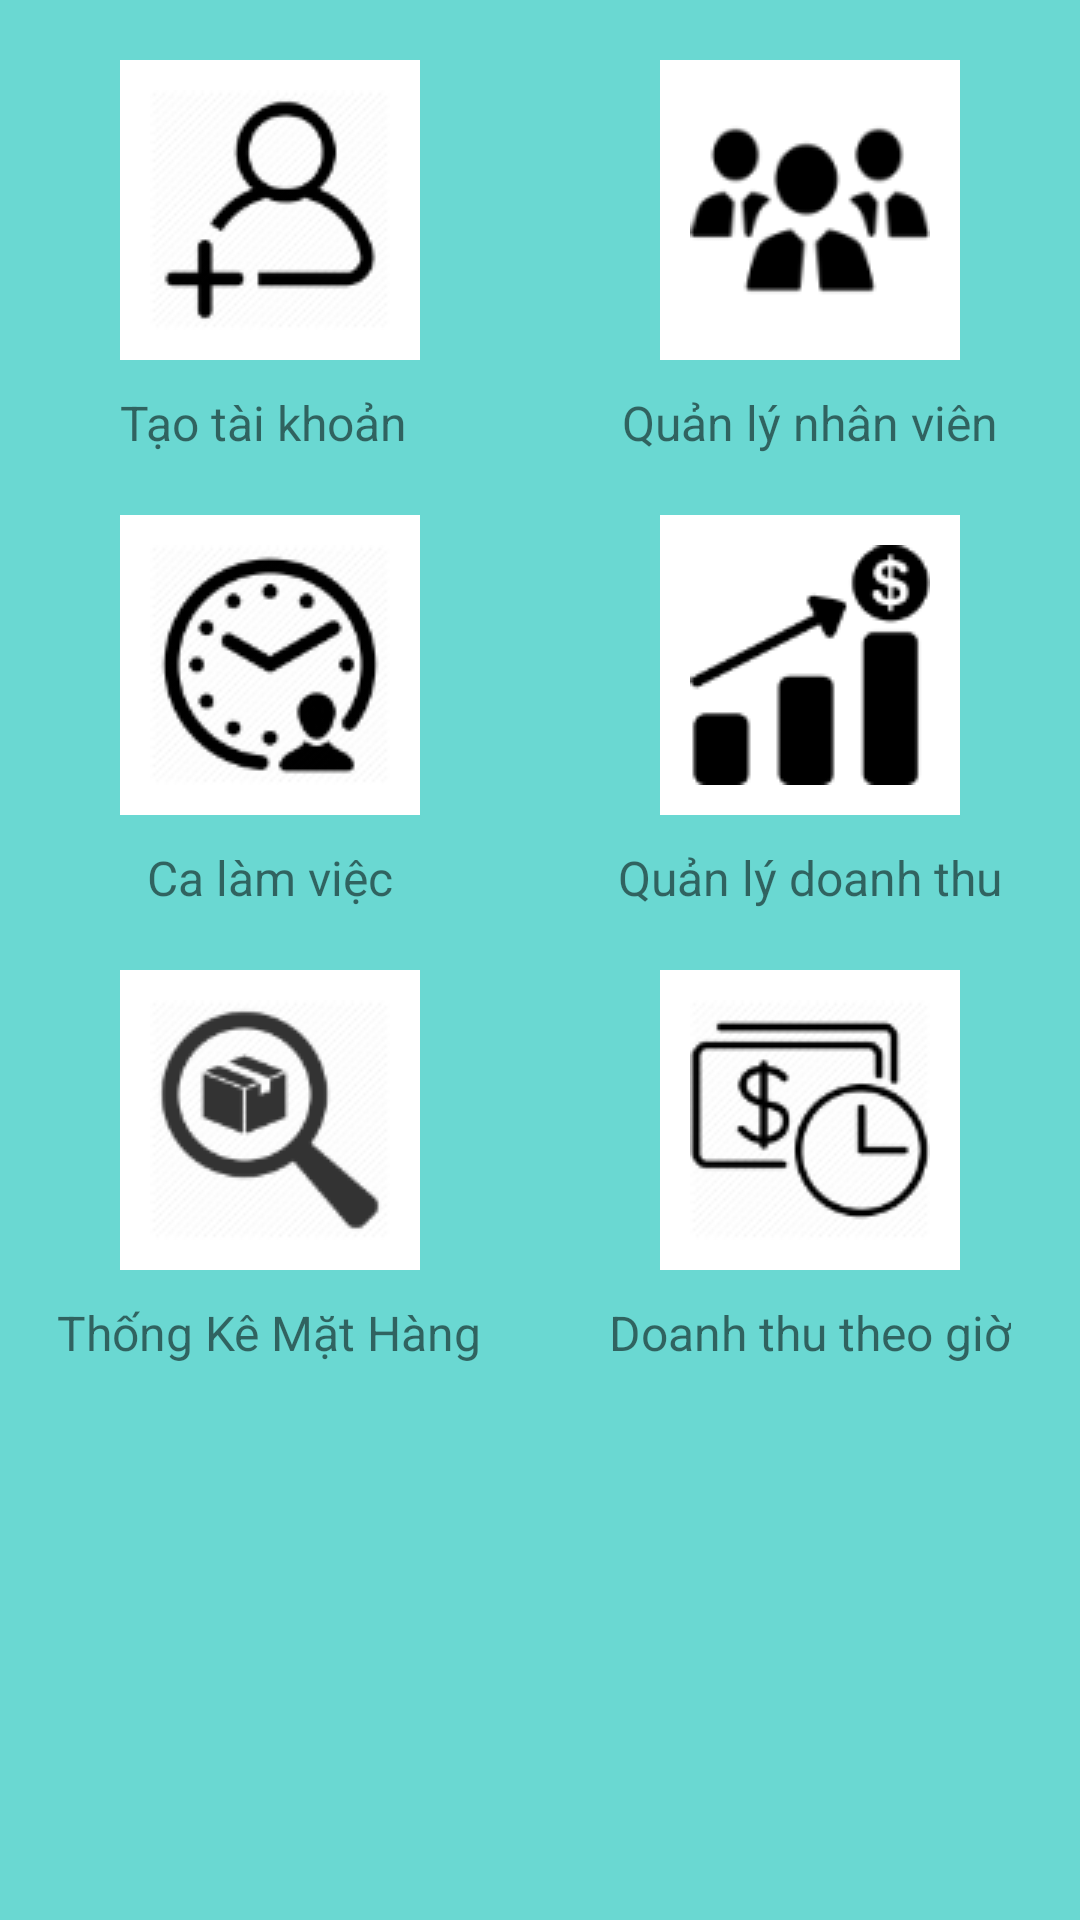

Named icons in this screenshot (1080*1920) and their bounding boxes, (x1, y1, x2, y2):
user: (120, 60, 420, 360)
